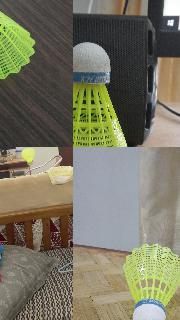shuttlecock: (73, 42, 135, 146), (123, 244, 179, 319), (0, 0, 35, 83), (21, 148, 35, 164)
